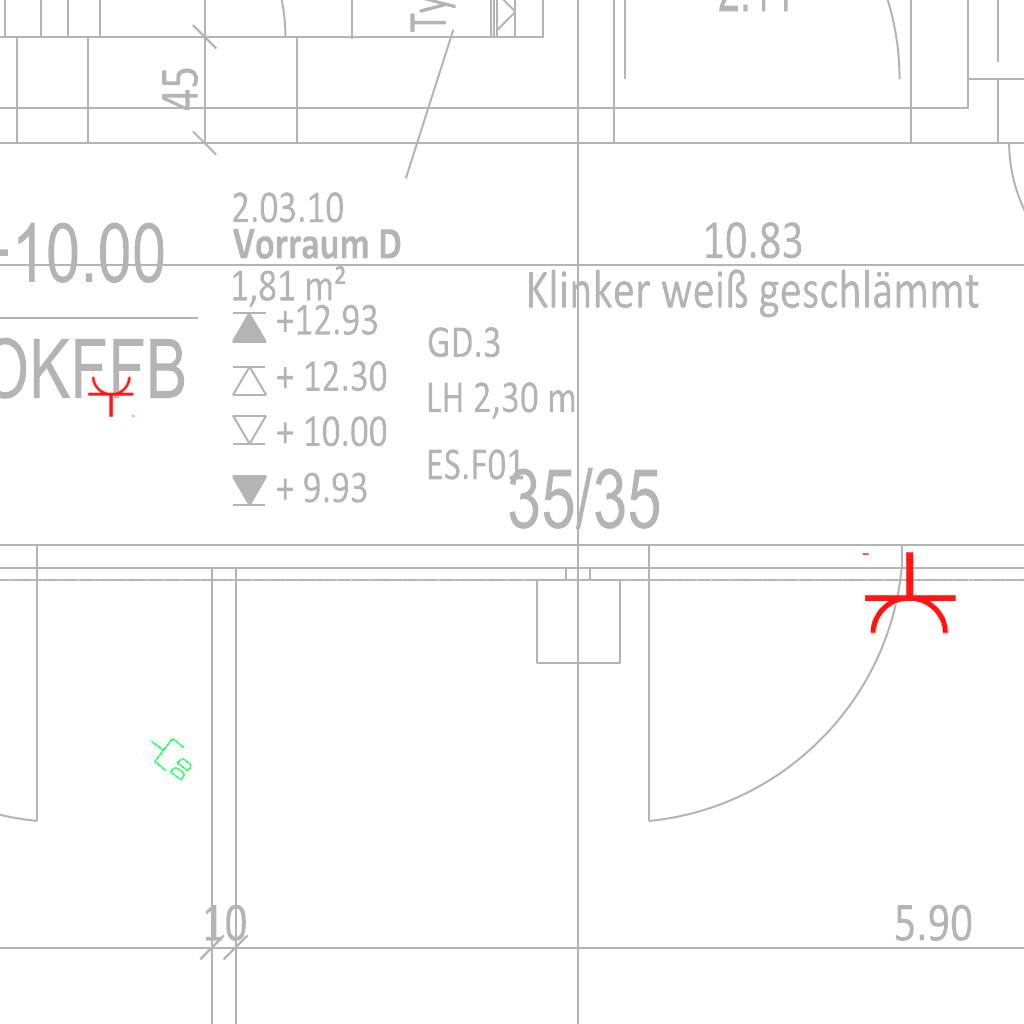Datenanschluss_zweifach: (139, 727, 202, 785)
Schukosteckdose_einfach: (858, 550, 958, 637), (87, 375, 137, 418)
